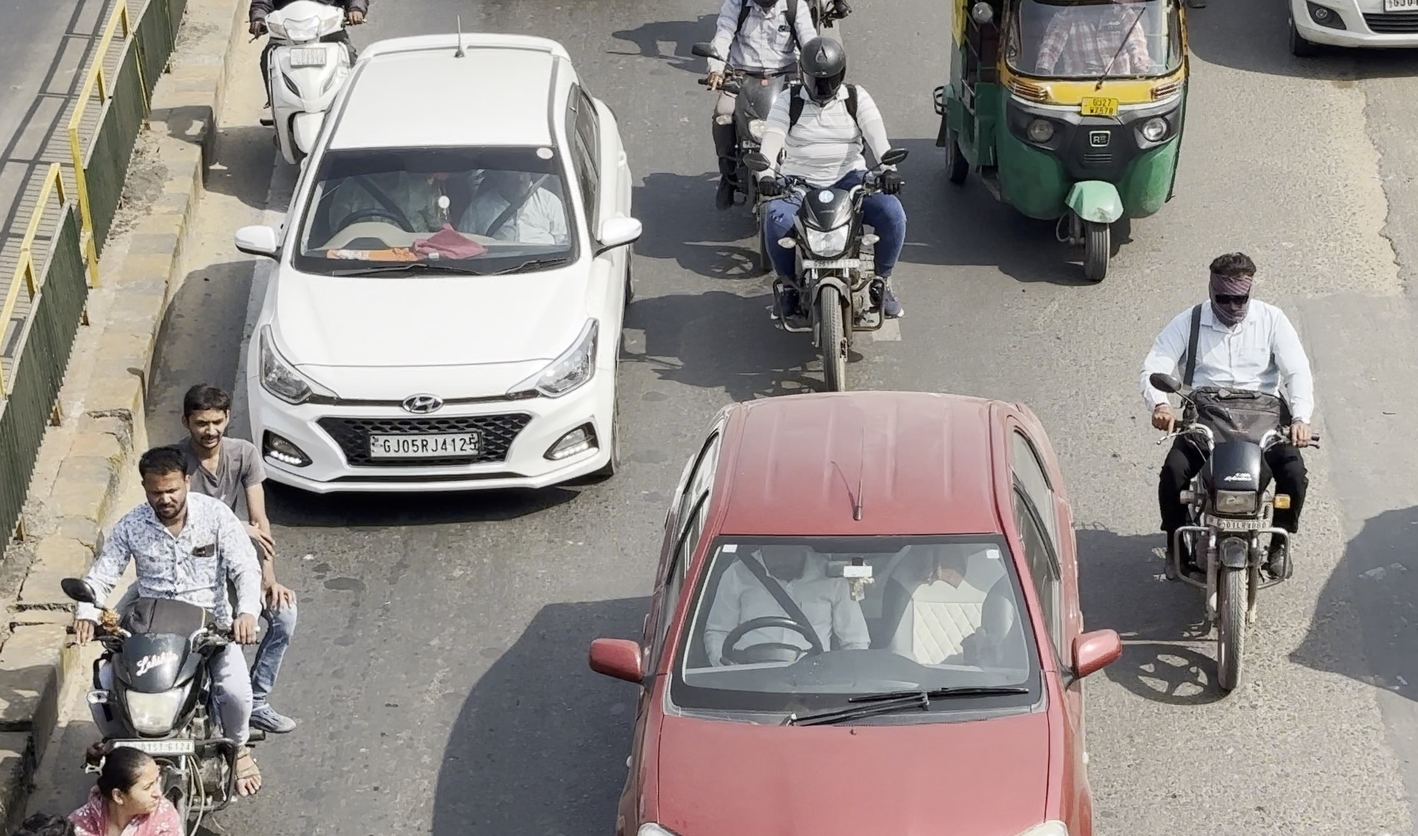BikeWithRider: (53, 373, 305, 836), (1127, 246, 1327, 693), (738, 34, 920, 397), (701, 0, 854, 225)
NoHelmet: (124, 441, 203, 531), (168, 374, 242, 462), (1197, 244, 1265, 331), (792, 33, 855, 105)
